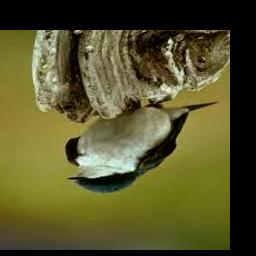Swallow: (66, 101, 217, 193)
